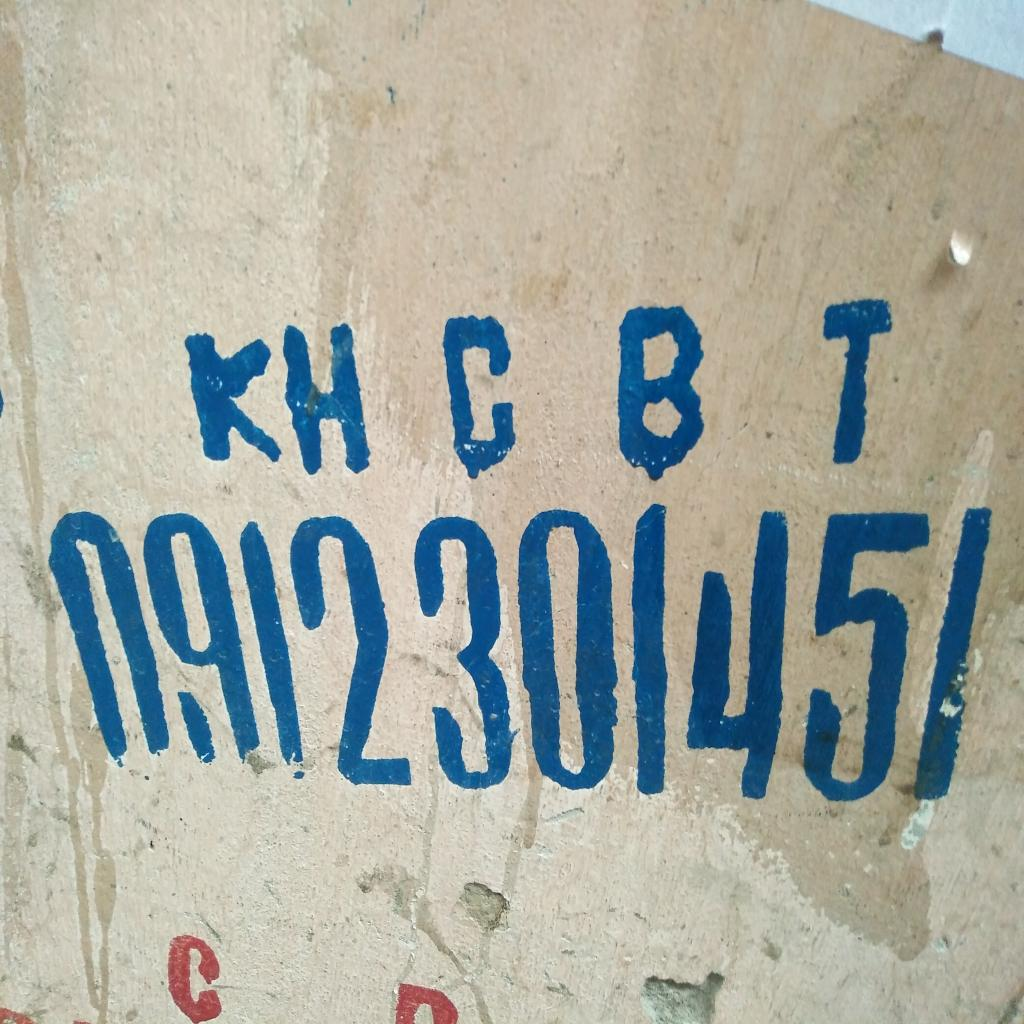text: (21, 489, 1001, 820), (160, 305, 384, 474), (605, 290, 716, 483), (426, 298, 523, 478), (816, 284, 902, 474), (149, 909, 251, 1021)
